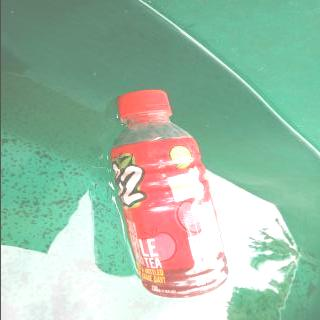bottle: (108, 89, 229, 298)
